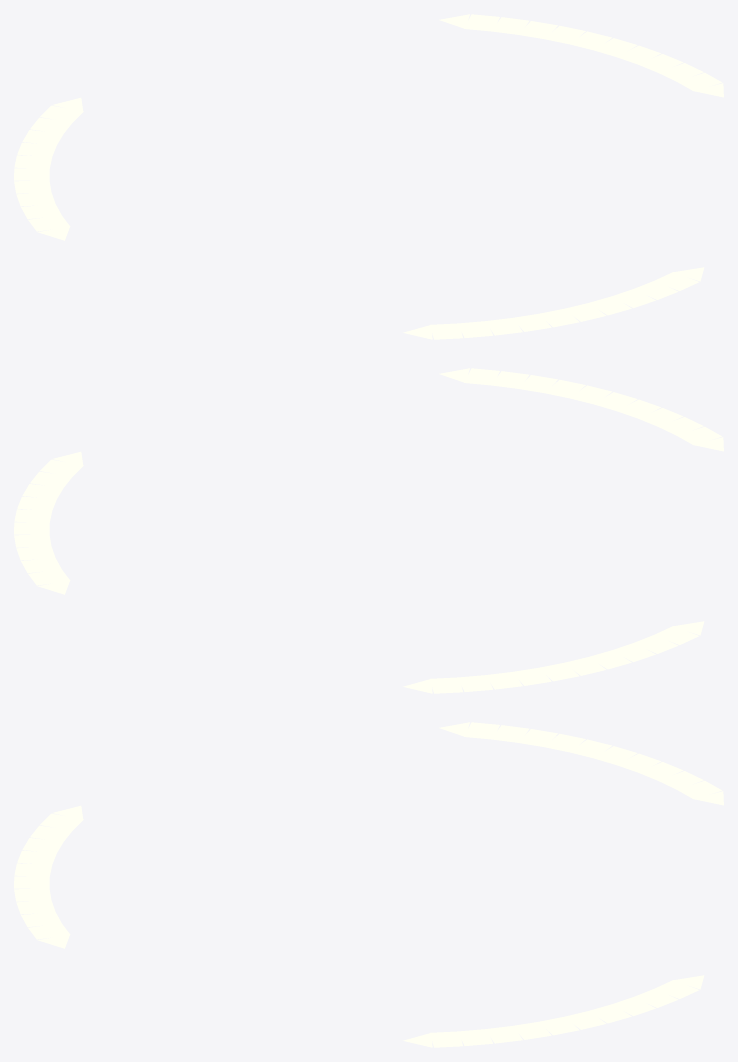
Rendered from contact_cleanse.glb.
The picture shows the model from 3 angles, top to bottom: view 1: azimuth 30°, elevation 25°; view 2: azimuth 150°, elevation 25°; view 3: azimuth 270°, elevation 25°; orthographic projection.
Visible parts, largest first — view 1: contact_cleanse sparse contact artwork; view 2: contact_cleanse sparse contact artwork; view 3: contact_cleanse sparse contact artwork.
Part boxes in pixels (x1,y1,x2,y2): contact_cleanse sparse contact artwork: (14,14,723,339); contact_cleanse sparse contact artwork: (14,368,723,693); contact_cleanse sparse contact artwork: (14,722,723,1047).
Size of the model in its own units: 0.9968 by 0 by 0.9185.
